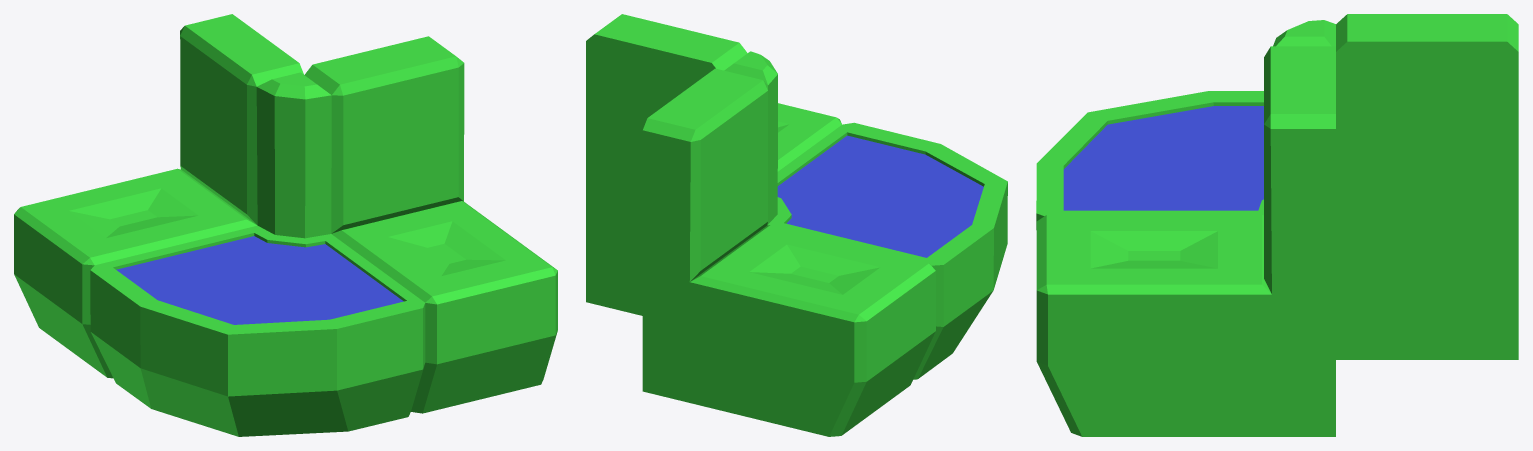
File: Chair_10_Corner_Out_A.fbx
3 renders of one model, left to right at view 1: azimuth 30°, elevation 25°; view 2: azimuth 150°, elevation 25°; view 3: azimuth 270°, elevation 25°, orthographic. The views are drawn at different scales.
Visible parts, largest first — view 1: Chair_10_Corner_Out_A; view 2: Chair_10_Corner_Out_A; view 3: Chair_10_Corner_Out_A.
Boxes of the visible parts, <box> form: Chair_10_Corner_Out_A: <box>14,14,557,436</box>; Chair_10_Corner_Out_A: <box>586,14,1007,436</box>; Chair_10_Corner_Out_A: <box>1036,14,1518,436</box>.
Size of what is drawn, in the model's own units: 121 by 87.99 by 121.
